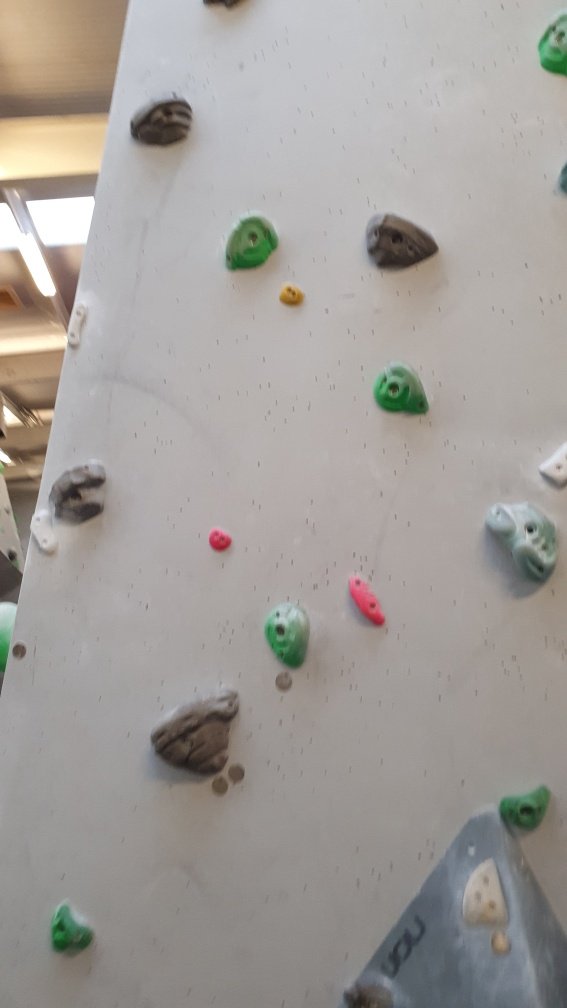Crimp: (458, 857, 512, 921), (346, 577, 388, 629), (26, 510, 59, 558), (540, 433, 567, 491), (67, 308, 90, 351)
Hand Start: (488, 930, 514, 958), (223, 762, 245, 787), (7, 640, 30, 663), (273, 671, 297, 692), (210, 772, 230, 797)
Jug: (145, 688, 245, 775), (487, 502, 558, 587), (44, 455, 111, 529), (367, 212, 440, 278), (130, 89, 200, 148), (224, 210, 280, 278), (261, 598, 312, 669), (377, 363, 430, 419), (499, 783, 552, 831)
